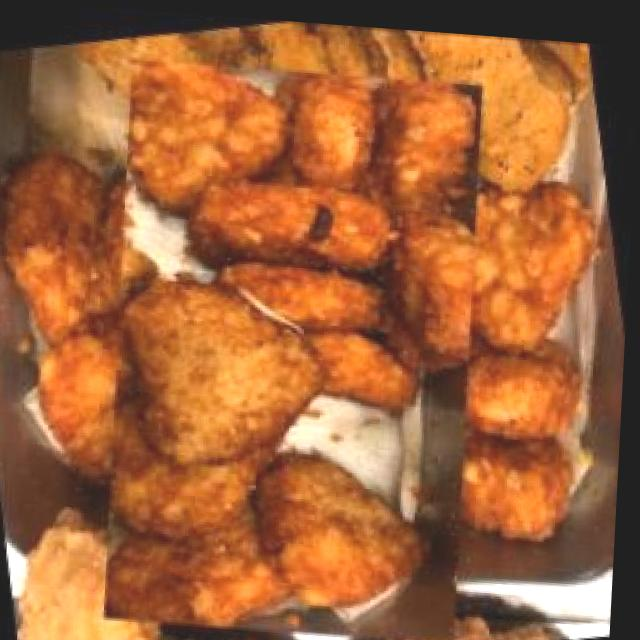triangle_hash_brown: (0, 25, 614, 640)
